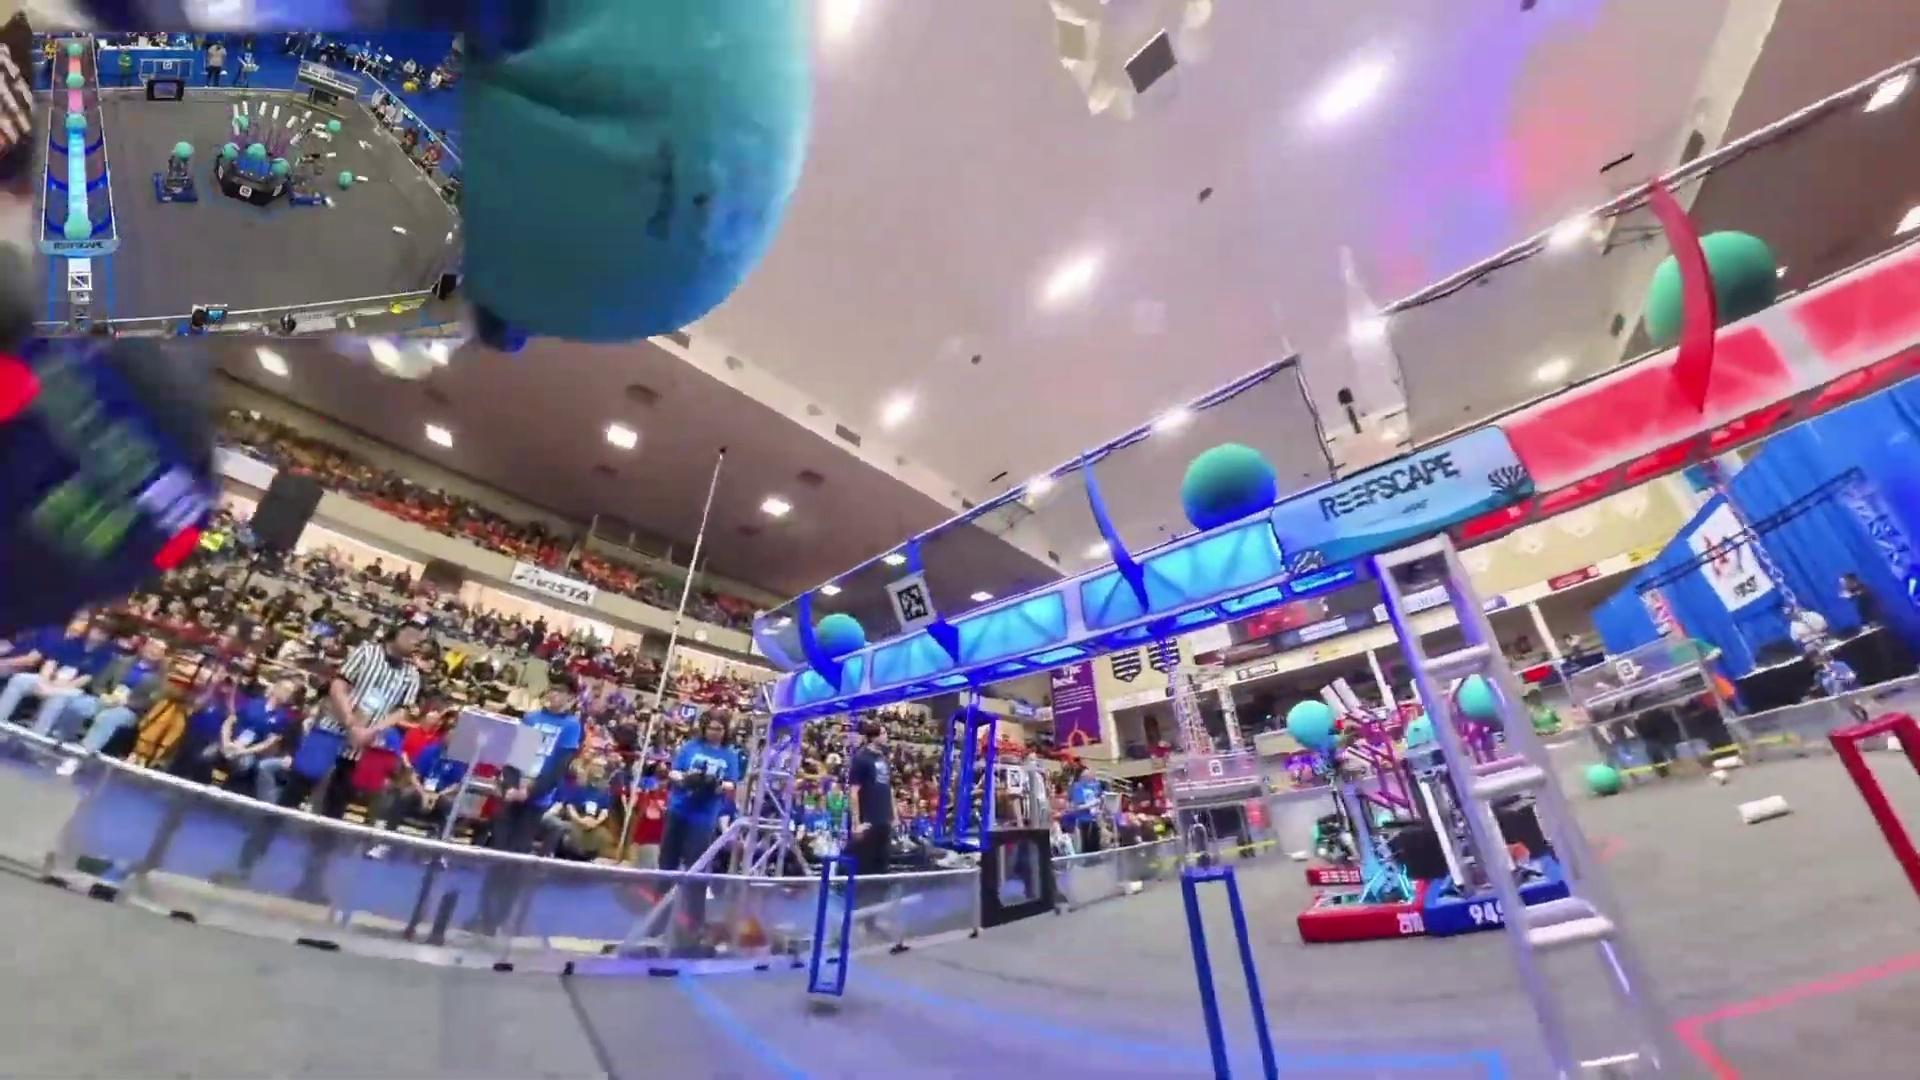robot: (1298, 725, 1429, 945), (1422, 742, 1567, 935), (1305, 804, 1383, 887), (153, 140, 200, 206), (284, 152, 324, 211)
